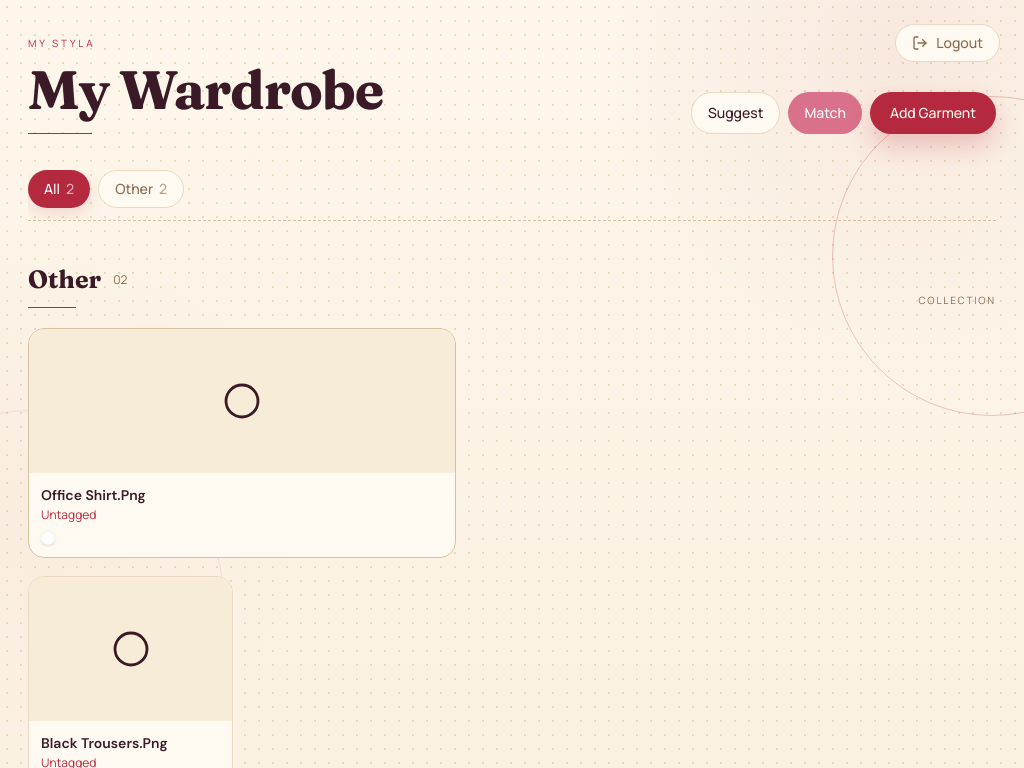
Scenario: Recommendations › renders outfit suggestions with accessory recommendations
Click the button "Suggest": (736,113) [691, 92, 781, 134]
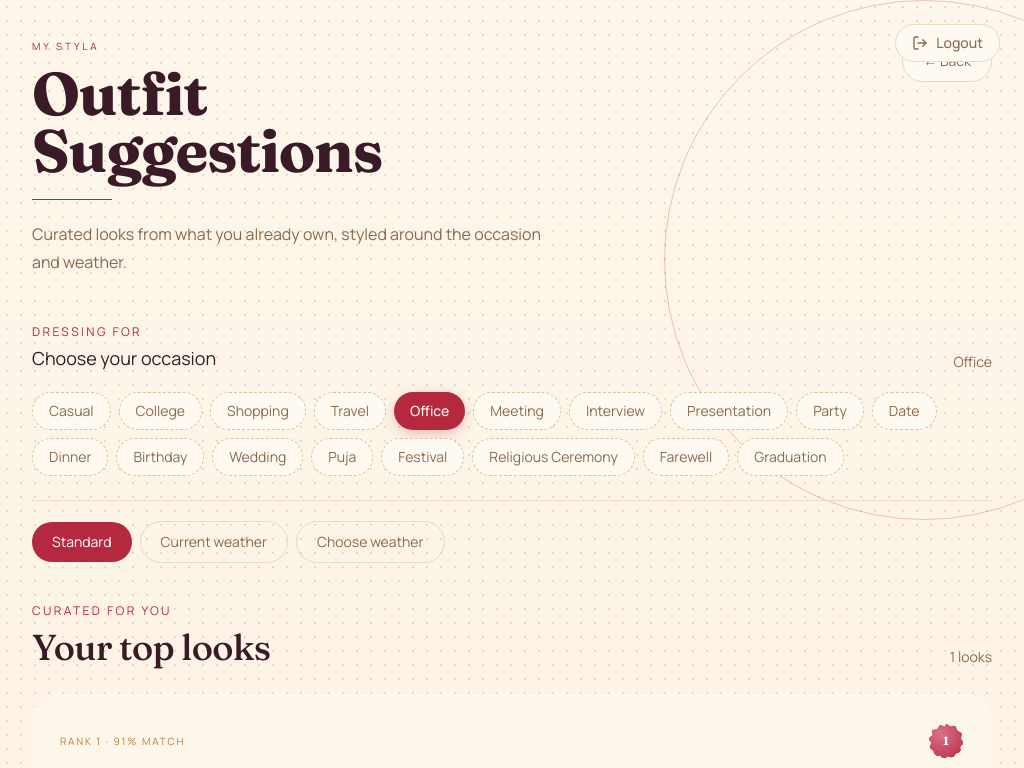
Expected: the number of elements with test id "outfit-suggestion-card" is 1, [32, 695, 992, 767]
